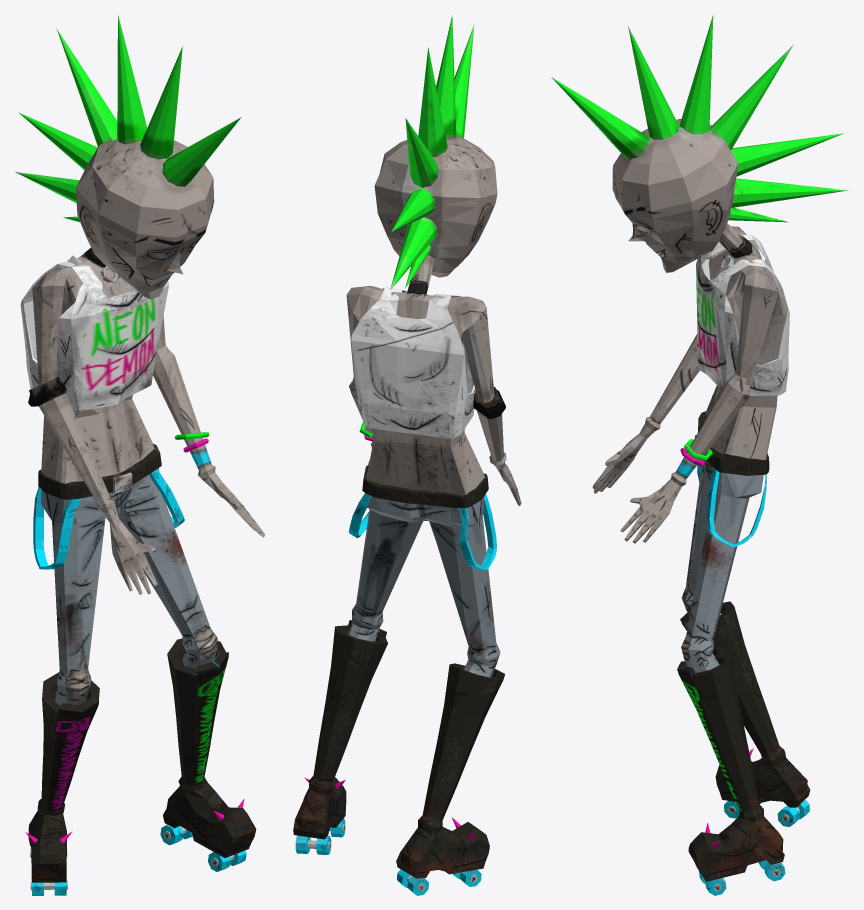
Rendered from punkAnimation_000038.obj.
3 renders of one model, left to right at view 1: azimuth 30°, elevation 25°; view 2: azimuth 150°, elevation 25°; view 3: azimuth 270°, elevation 25°, orthographic. The views are drawn at different scales.
Parts seen in each view (by area): view 1: Cube.004_Cube.003; view 2: Cube.004_Cube.003; view 3: Cube.004_Cube.003.
Part boxes in pixels (x1,y1,x2,y2): Cube.004_Cube.003: [14, 15, 264, 895]; Cube.004_Cube.003: [293, 15, 521, 895]; Cube.004_Cube.003: [551, 15, 848, 895].
Bounding box in the file's own units: 1.89 × 7.38 × 2.43.
